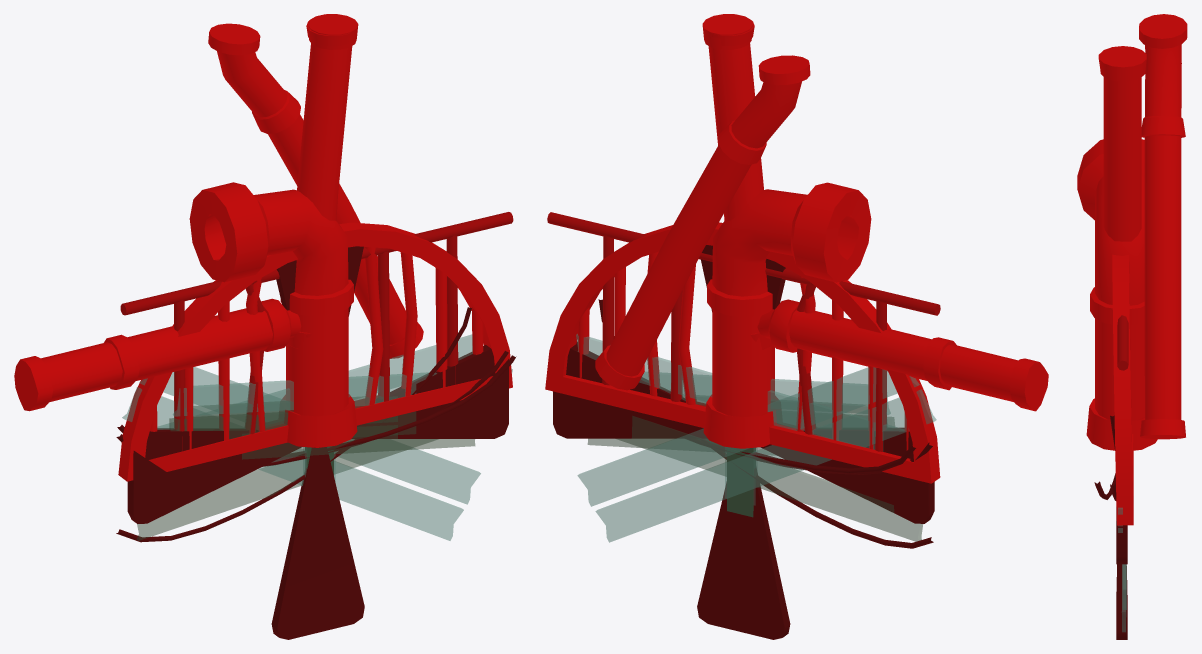
3 renders of one model, left to right at view 1: azimuth 30°, elevation 25°; view 2: azimuth 150°, elevation 25°; view 3: azimuth 270°, elevation 25°, orthographic. The views are drawn at different scales.
Parts seen in each view (by area): view 1: propeller, grid, pipe2, wood3, pipe3, wood4, grid2, pipe4, pipe5, cable2, pipe; view 2: pipe2, propeller, grid, wood3, pipe3, wood4, grid2, pipe4, pipe5, pipe, cable2, wood2; view 3: pipe3, pipe2, pipe, grid, propeller, grid2, wood3, cable2.
Boxes of the visible parts, x1,y1,x2,y2 form: propeller: [127, 246, 508, 639]; grid: [118, 222, 512, 481]; pipe2: [189, 182, 357, 447]; wood3: [122, 367, 512, 540]; pipe3: [208, 21, 423, 358]; wood4: [137, 334, 475, 540]; grid2: [120, 212, 513, 450]; pipe4: [14, 305, 300, 411]; pipe5: [104, 298, 300, 389]; cable2: [116, 307, 516, 542]; pipe: [305, 14, 358, 337]; pipe2: [703, 182, 871, 448]; propeller: [553, 245, 934, 639]; grid: [545, 222, 940, 483]; wood3: [577, 367, 936, 542]; pipe3: [595, 21, 810, 390]; wood4: [576, 334, 923, 541]; grid2: [547, 212, 940, 451]; pipe4: [757, 305, 1048, 411]; pipe5: [757, 299, 956, 390]; pipe: [702, 14, 759, 340]; cable2: [576, 299, 933, 548]; wood2: [727, 447, 755, 517]; pipe3: [1098, 14, 1187, 439]; pipe2: [1077, 139, 1157, 450]; pipe: [1099, 46, 1146, 241]; grid: [1112, 254, 1133, 525]; propeller: [1116, 507, 1127, 639]; grid2: [1117, 315, 1128, 370]; wood3: [1118, 507, 1126, 632]; cable2: [1094, 415, 1115, 499].
Size of the model in its own units: 15.11 by 17.88 by 3.1.
